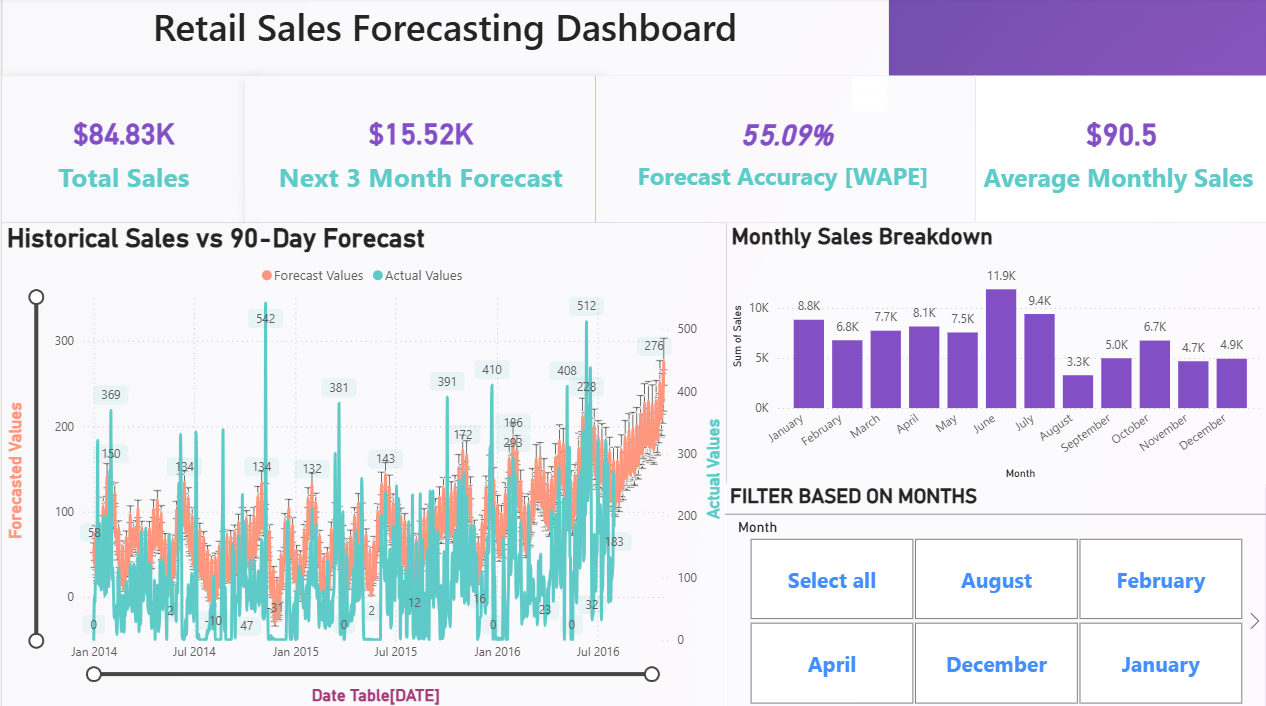

This screenshot's page, from the dashboard's own definition file:
{"tool":"powerbi","page":{"name":"Page 1","canvas":[1280,720],"ordinal":0},"visuals":[{"type":"textbox","box":[0,0,894.9,80.3],"z":0},{"type":"card","fields":{"Values":["Sum(cleaned_retail_data.Sales)"]},"box":[0,80.3,245.3,148.4],"z":1000},{"type":"card","fields":{"Values":["Sum(final_retail_forecast.yhat)"]},"box":[245.3,80.3,354.3,148.4],"z":2000},{"type":"lineChart","title":"Historical Sales vs 90-Day Forecast","fields":{"Category":["final_retail_forecast.ds"],"Y2":["Sum(cleaned_retail_data.Sales)"],"Y":["Sum(final_retail_forecast.yhat)"]},"box":[0,228.6,731.4,490.6],"z":3000},{"type":"card","fields":{"Values":["Avg(cleaned_retail_data.Sales)"]},"box":[983.3,80,295,148.3],"z":4000},{"type":"clusteredColumnChart","title":"Monthly Sales Breakdown","fields":{"Category":["Date Table.Date.Variation.Date Hierarchy.Month"],"Y":["Sum(cleaned_retail_data.Sales)"]},"box":[732,228,546,264],"z":5000},{"type":"slicer","title":"FILTER BASED ON MONTHS","fields":{"Values":["Date Table.Month"]},"box":[730,492,546,228],"z":6000},{"type":"card","fields":{"Values":["Date Table.WAPE (Correct)"]},"box":[600,80,383.3,148.3],"z":7000}]}

Visuals, with their boxes in screenshot pixels (x1, y1, x2, y2), scaled from the page's 1280x720 canvas onto the 1266x706 screenshot:
textbox: 0 0 885 79
card - Sum(cleaned_retail_data.Sales): 0 79 243 224
card - Sum(final_retail_forecast.yhat): 243 79 593 224
"Historical Sales vs 90-Day Forecast" lineChart: 0 224 723 705
card - Avg(cleaned_retail_data.Sales): 973 78 1264 224
"Monthly Sales Breakdown" clusteredColumnChart: 724 224 1264 482
"FILTER BASED ON MONTHS" slicer: 722 482 1262 705
card - Date Table.WAPE (Correct): 593 78 973 224
